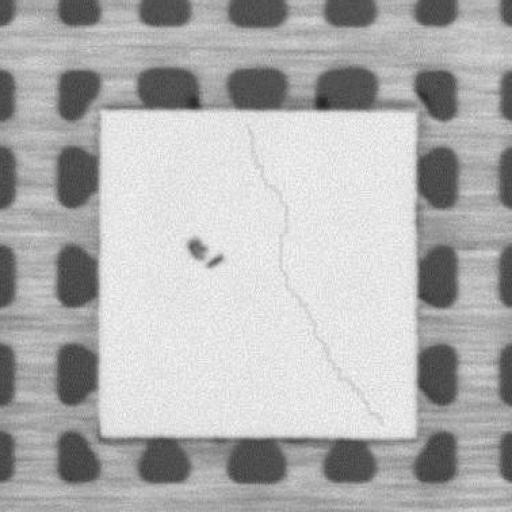DIE_INK: (184, 230, 224, 271)
